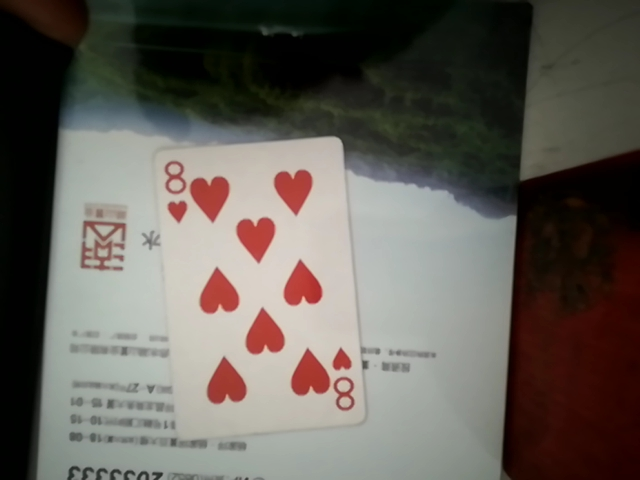hx 8: (147, 135, 359, 442)
